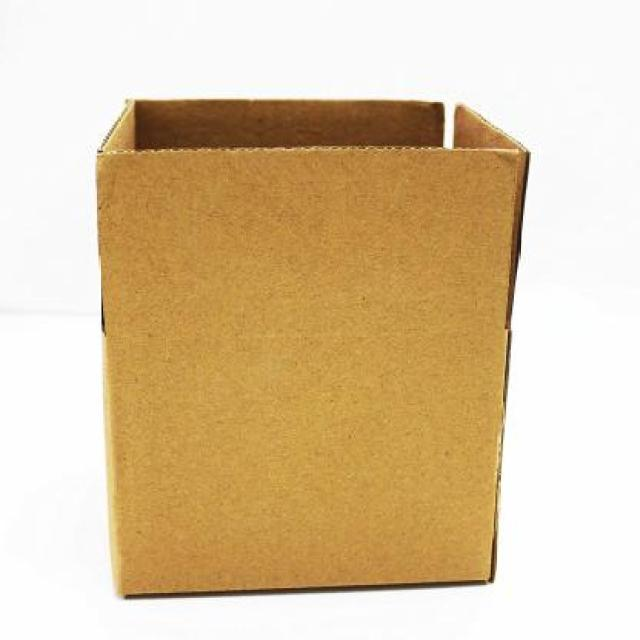box: (83, 76, 534, 606)
